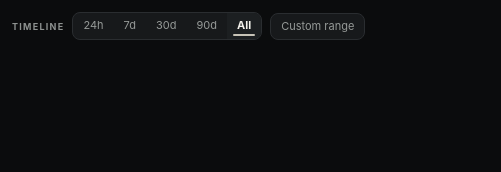
Test case: what a register says about the window › states the window, both counts and how the narrowing was done
Click the radio button labelled "7d". click: (130, 26)
box: [114,13,146,39]
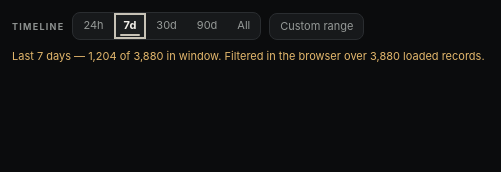
expect the text with test id "tr-notice" shows "Last 7 days — 1,204 of 3,880 in window.": met, box [12,49,485,63]
expect the text with test id "tr-notice" shows "Filtered in the browser over 3,880 loaded records.": met, box [12,49,485,63]
